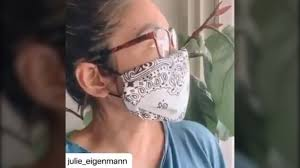with_mask: (67, 3, 198, 128)
